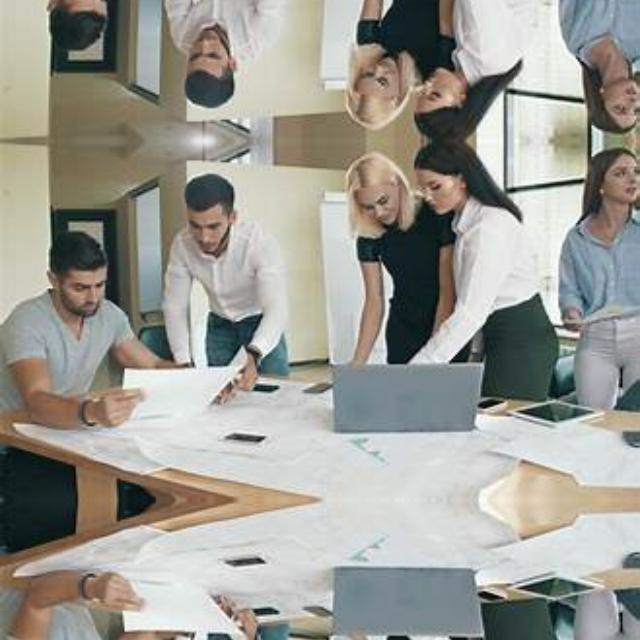person: (1, 223, 170, 439), (416, 152, 558, 366), (166, 181, 306, 371), (322, 151, 423, 385), (558, 140, 640, 414), (416, 0, 558, 128), (166, 0, 306, 99), (0, 561, 169, 640), (322, 0, 423, 129), (558, 0, 640, 140), (0, 0, 169, 57), (558, 586, 640, 640), (322, 615, 423, 640), (166, 629, 306, 640), (416, 634, 558, 640)
